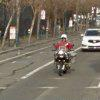Motorcycle: (43, 30, 78, 87)
